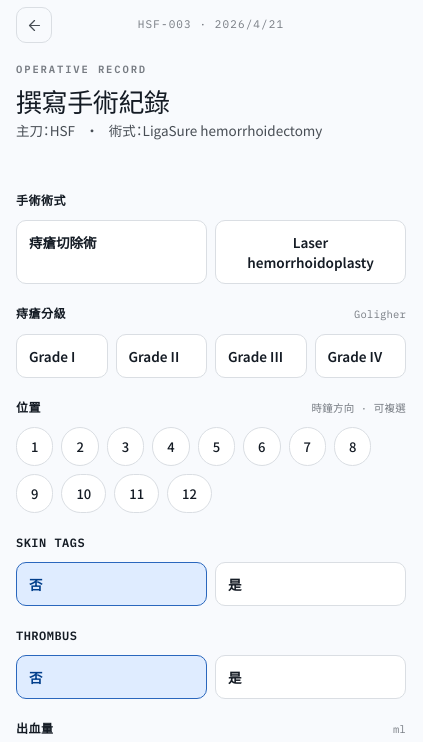
Test case: SurgicalRecord › laser joules appear only when laser procedure selected
The image size is (423, 742).
Expected: the heading "撰寫手術紀錄" is shown, [16, 82, 170, 119]
Expected: the text "Laser energy" is not shown
Click the button "Laser hemorrhoidoplasty" at [310, 252], box [215, 220, 406, 284]
(page scrolled)
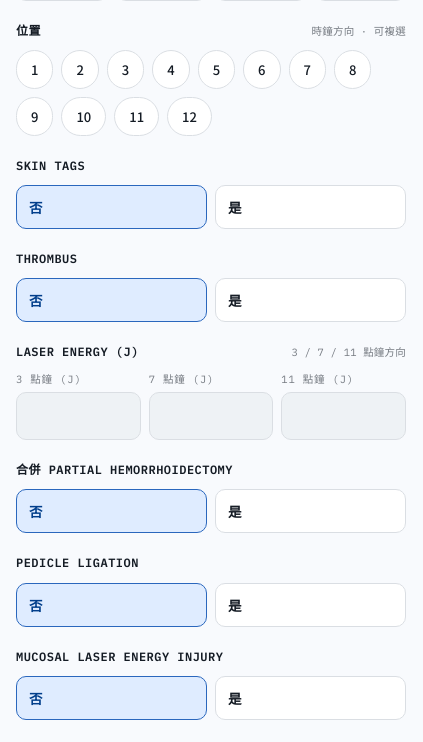
Expected: the text "Laser energy (J) 3 / 7 / 11 點鐘方向" is shown, [16, 342, 406, 361]
Expected: the text "3 點鐘 (J)" is shown, [16, 372, 82, 386]
Expected: the text "7 點鐘 (J)" is shown, [149, 372, 214, 386]
